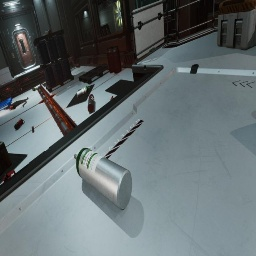0: (74, 148, 132, 210), (76, 86, 90, 98), (32, 84, 41, 91), (45, 31, 52, 35)
EmergencyPhone ,: (11, 53, 15, 58)
FireExtinguisher ]: (14, 118, 25, 130), (9, 105, 16, 110), (47, 29, 52, 34), (32, 86, 36, 91), (110, 96, 114, 100)
FirstAidBox ,: (3, 170, 16, 183), (18, 85, 23, 95), (0, 99, 2, 103), (40, 63, 41, 64), (0, 84, 1, 85)
NitrogenTank ,: (88, 94, 94, 113), (76, 63, 80, 68)
SafetySwitchPanel ,: (43, 34, 46, 43)
